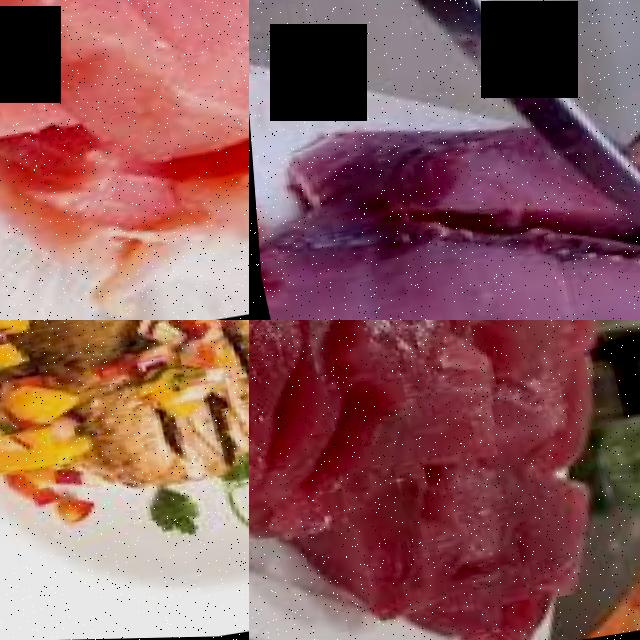tuna: (358, 123, 560, 244), (303, 238, 600, 320), (295, 320, 490, 429), (249, 320, 338, 499)
